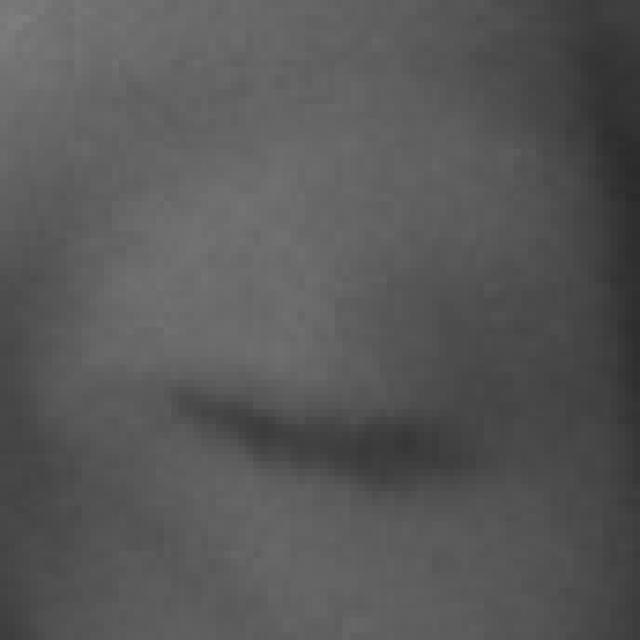Eyeclosed: (164, 268, 476, 612)
